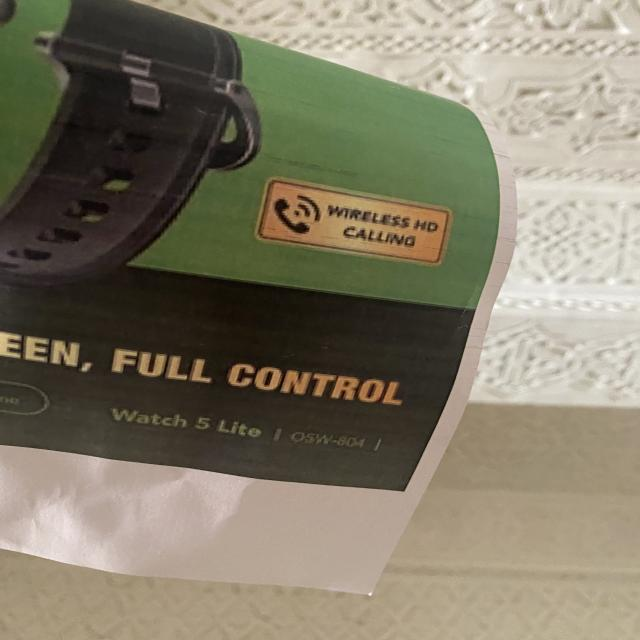Watch 5 Lite OSW-804: (103, 396, 392, 458)
